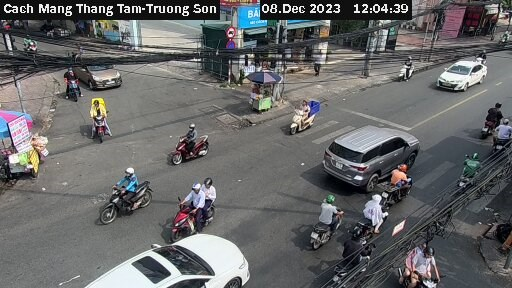car: (73, 232, 269, 288), (322, 120, 419, 186), (65, 51, 129, 90), (438, 57, 486, 98)
motorbike: (92, 168, 158, 227), (156, 181, 221, 237), (298, 199, 346, 251), (345, 196, 392, 239), (77, 100, 125, 142), (170, 126, 215, 168), (451, 154, 493, 197), (285, 101, 323, 137), (58, 70, 95, 105), (474, 99, 507, 133), (390, 55, 420, 82)
